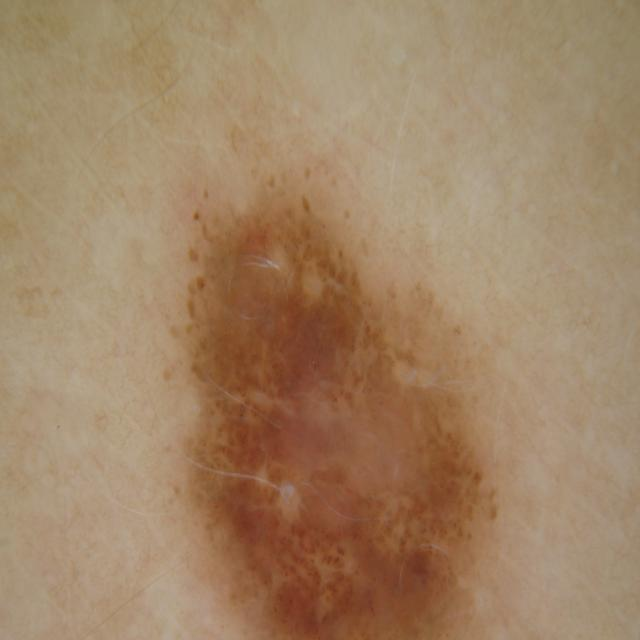Melanoma: (165, 190, 535, 640)
